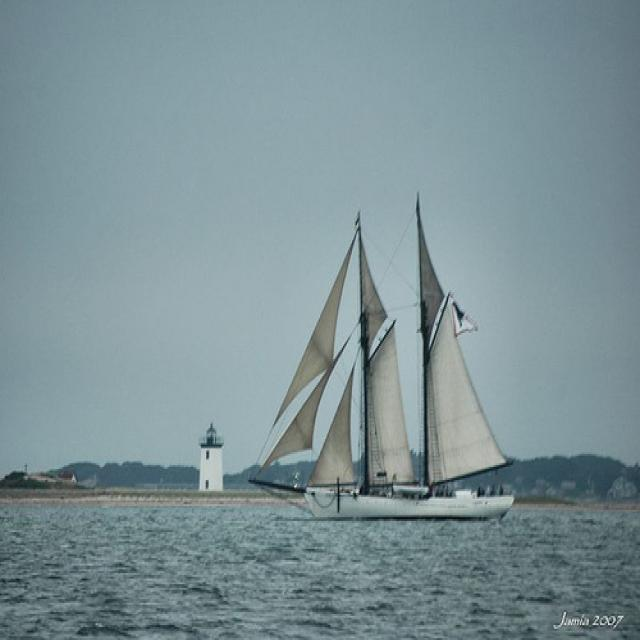Ship: (241, 182, 519, 524)
